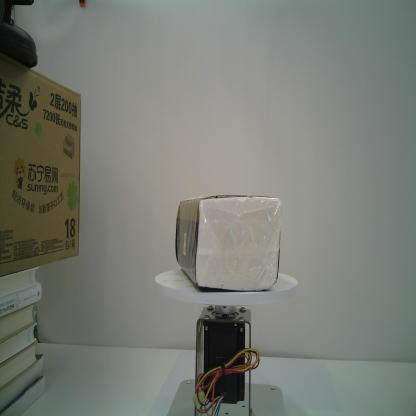Tissue: (172, 192, 284, 291)
